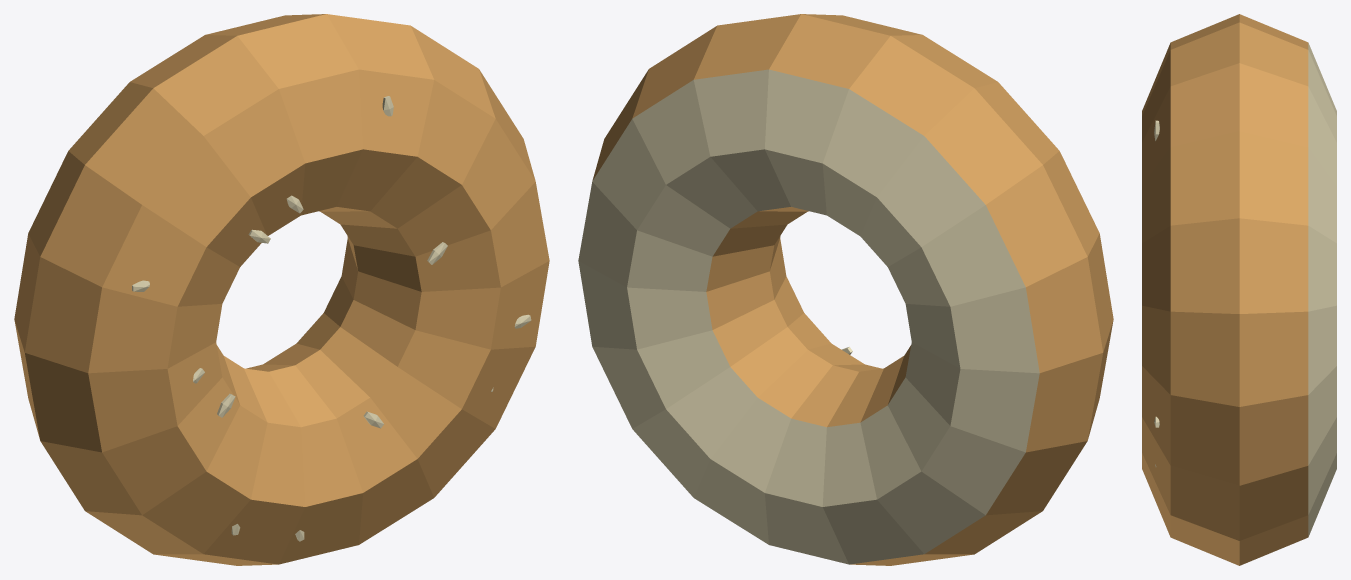
Rendered from bagel.glb.
3 views of the same model, side by side, from view 1: azimuth 30°, elevation 25°; view 2: azimuth 150°, elevation 25°; view 3: azimuth 270°, elevation 25° (orthographic). The views are drawn at different scales.
Visible parts, largest first — view 1: bagel; view 2: bagel; view 3: bagel.
Boxes of the visible parts, <box> form: bagel: <box>14,14,549,565</box>; bagel: <box>578,14,1113,565</box>; bagel: <box>1142,14,1336,565</box>.
Size of the model in its own units: 0.108 by 0.1064 by 0.038.
